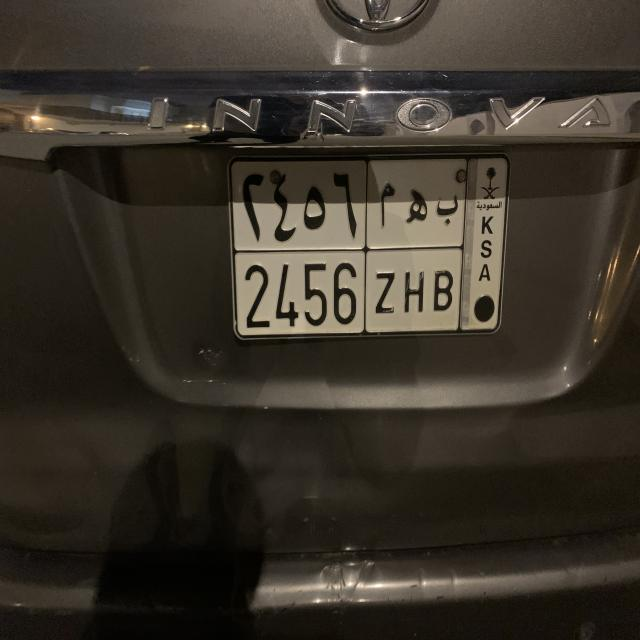license_plate: (223, 150, 515, 343)
